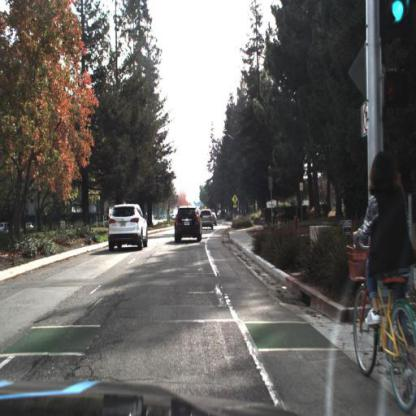biker: (345, 147, 416, 414)
car: (107, 201, 150, 250), (175, 206, 203, 244), (200, 208, 217, 233), (201, 209, 214, 230)
